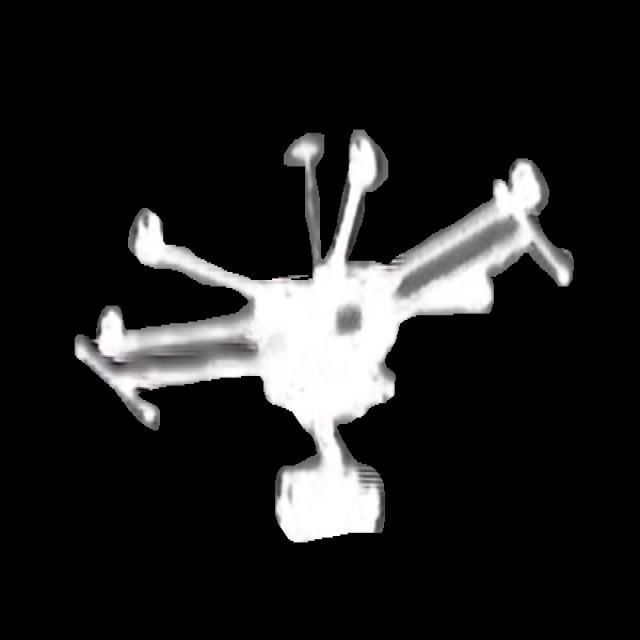drone: (72, 124, 576, 555)
